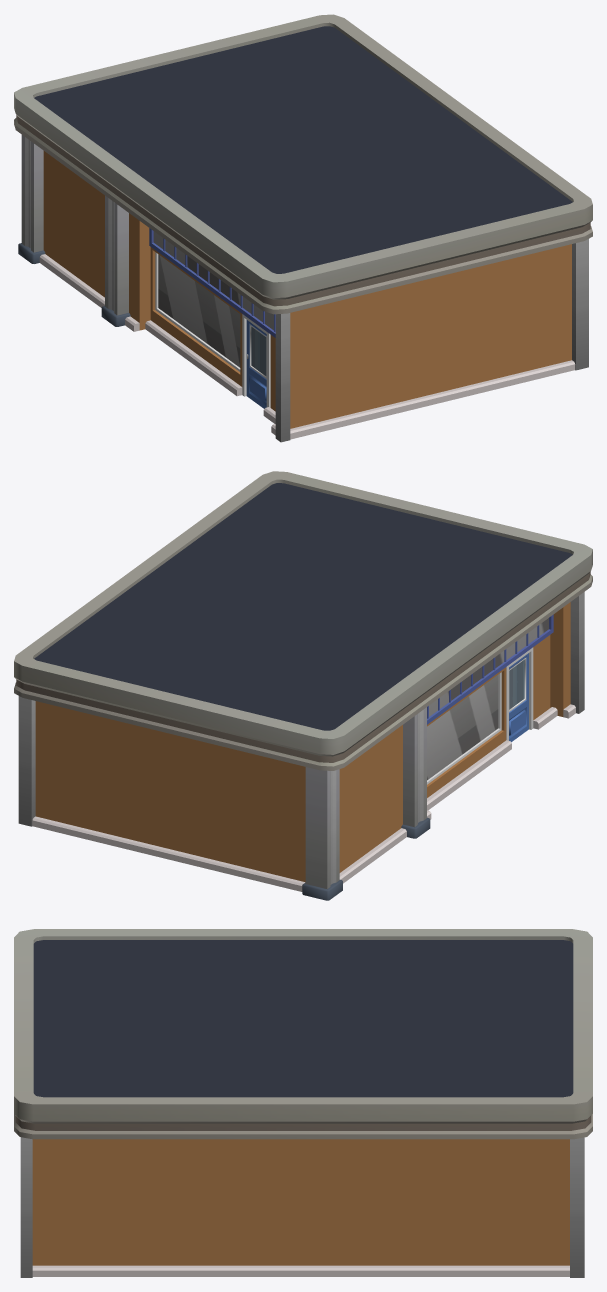
The model's file is Building_11_4_H.fbx.
3 renders of one model, top to bottom at view 1: azimuth 30°, elevation 25°; view 2: azimuth 150°, elevation 25°; view 3: azimuth 270°, elevation 25°, orthographic. The views are drawn at different scales.
Parts seen in each view (by area): view 1: Building_11_4_H; view 2: Building_11_4_H; view 3: Building_11_4_H.
Part boxes in pixels (box(x1,y1,x2,y2)): Building_11_4_H: box(14, 14, 592, 442); Building_11_4_H: box(14, 471, 592, 900); Building_11_4_H: box(14, 929, 592, 1277).
Bounding box in the file's own units: 833 × 393 × 1163.
